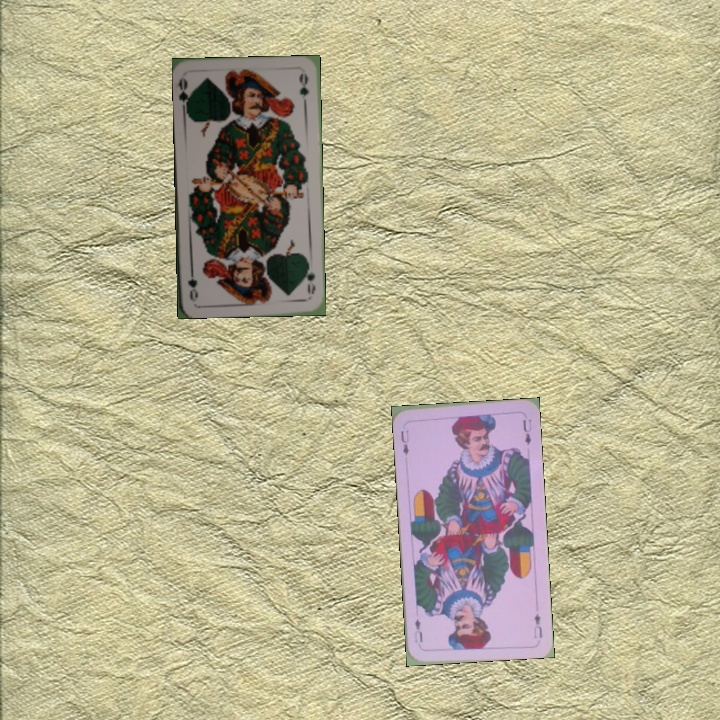EU: (530, 610, 545, 641), (397, 426, 411, 458)
GO: (175, 73, 195, 113), (301, 259, 318, 297)
